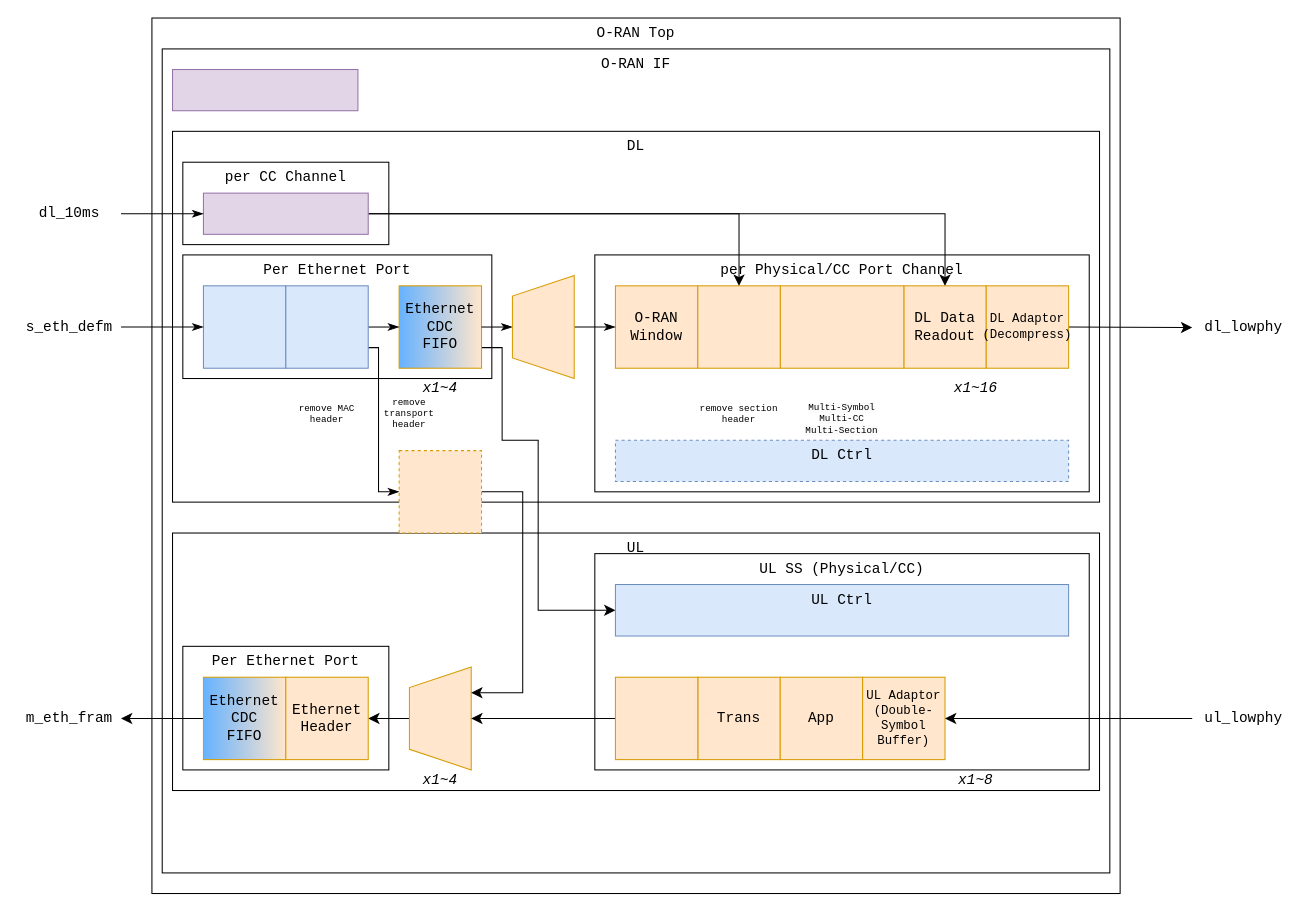
Image size: 1312x912. Some labels were removed from this diagram. Each missing label, with the centre of its shape:
"AXI4-Lite Salve" goes at (x=264, y=89).
"Delay Measurement" goes at (x=440, y=491).
"DL Buffer Writer" goes at (x=738, y=326).
"DL Symbol Timer" goes at (x=285, y=213).
"DL U-Plane Buffer" goes at (x=841, y=326).
"eCPRI Parse" goes at (x=326, y=326).
"m2n Switch" goes at (x=439, y=718).
"n2m Switch" goes at (x=542, y=326).
"Packet FIFO" goes at (x=656, y=718).
"Packet Filter" goes at (x=244, y=326).
